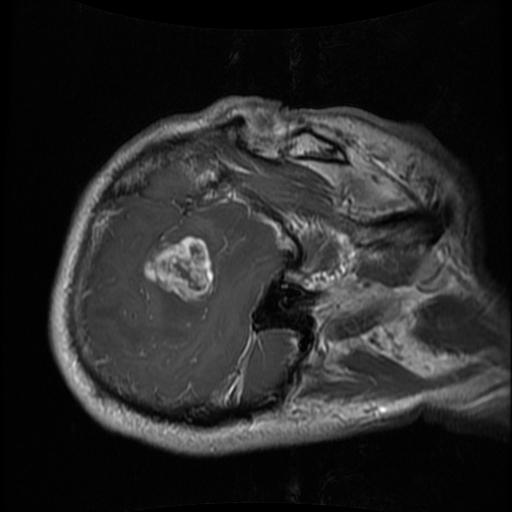glioma: (142, 238, 211, 302)
